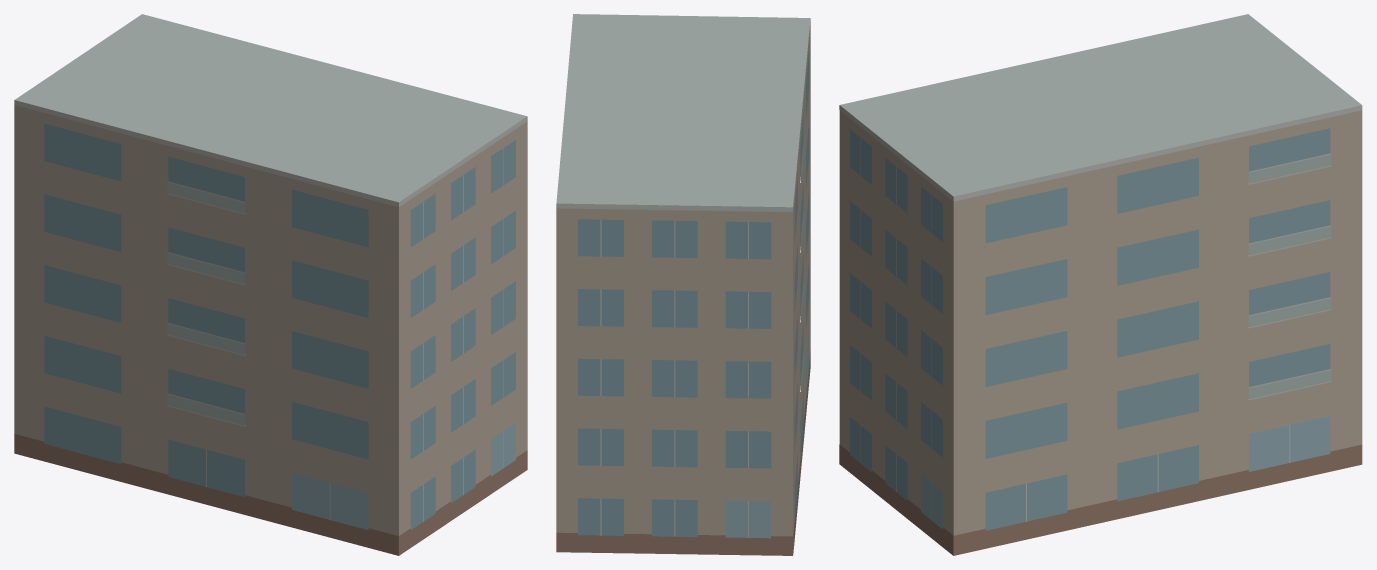
File: survey-upis-32835547.glb
The picture shows the model from 3 angles, left to right: view 1: azimuth 30°, elevation 25°; view 2: azimuth 150°, elevation 25°; view 3: azimuth 270°, elevation 25°; orthographic projection. The views are drawn at different scales.
Parts seen in each view (by area): view 1: survey-upis-32835547.tmp; view 2: survey-upis-32835547.tmp; view 3: survey-upis-32835547.tmp.
Boxes of the visible parts, <box> form: survey-upis-32835547.tmp: <box>14,14,527,555</box>; survey-upis-32835547.tmp: <box>556,14,810,555</box>; survey-upis-32835547.tmp: <box>839,14,1362,555</box>.
Size of the model in its own units: 19.08 by 17.5 by 23.09.
